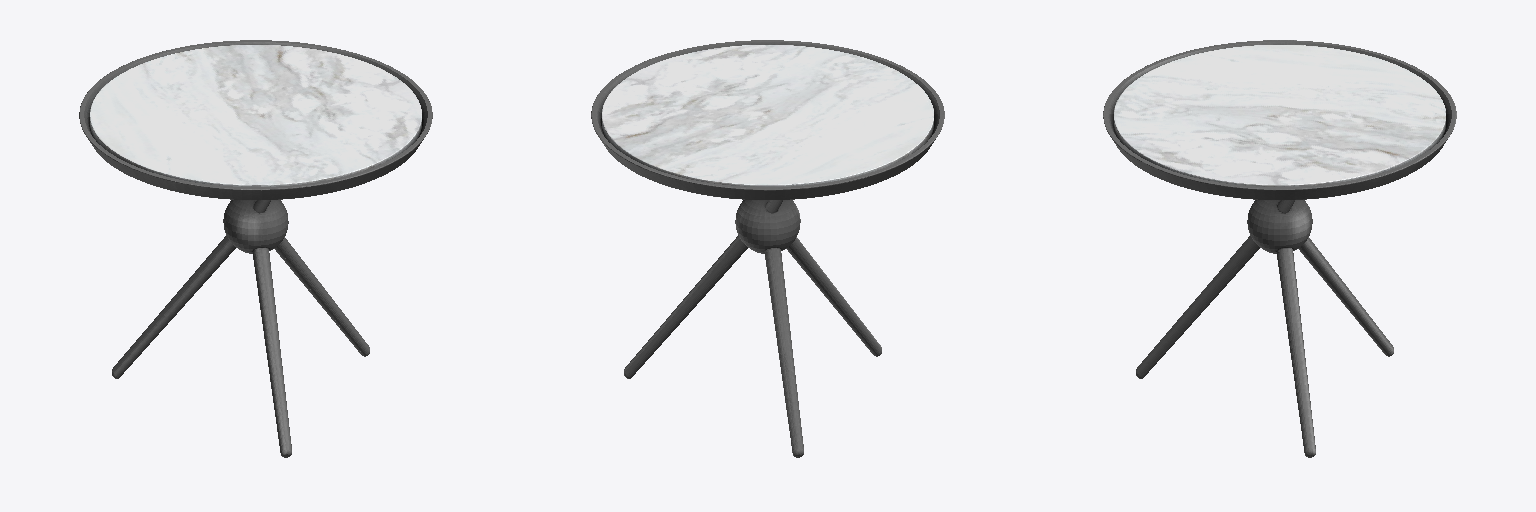
3 views of the same model, side by side, from view 1: azimuth 30°, elevation 25°; view 2: azimuth 150°, elevation 25°; view 3: azimuth 270°, elevation 25° (orthographic).
Visible parts, largest first — view 1: solid_001, solid_002; view 2: solid_001, solid_002; view 3: solid_001, solid_002.
Boxes of the visible parts, box(x1,y1,x2,y2) form: solid_001: box(90, 45, 421, 186); solid_002: box(79, 40, 432, 457); solid_001: box(602, 45, 933, 186); solid_002: box(591, 40, 944, 457); solid_001: box(1114, 45, 1445, 186); solid_002: box(1103, 40, 1456, 457).
Bounding box in the file's own units: 1.45 × 1.28 × 1.45.
Materials: 1 (1 with a texture image).